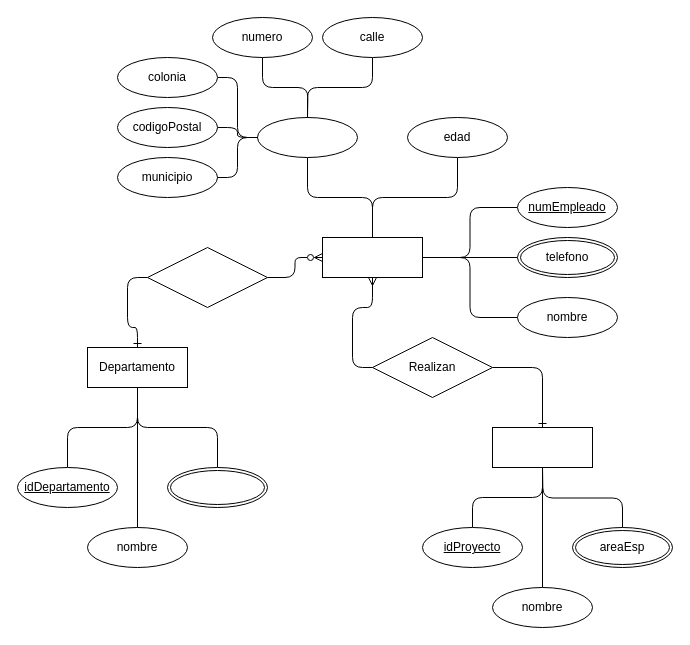
Some shapes in this 690 by 645 pixel diagram are drawn without their labels. The centre of each missing label's shape, as x and y in pixels:
"direccion" goes at pixel 307 137.
"Empleado" goes at pixel 372 257.
"Proyecto" goes at pixel 542 447.
"Trabaja" goes at pixel 207 277.
"ubicacion" goes at pixel 217 487.
